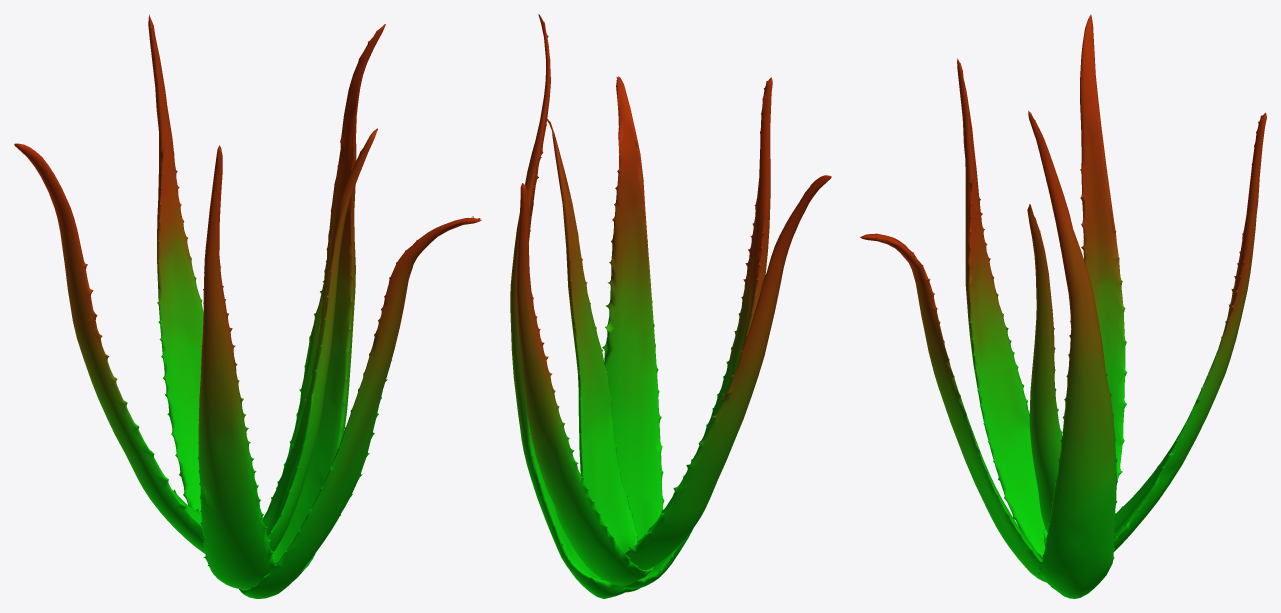
Rendered from Aloe Vera_LOD2_Var1_ve4tbbrha.fbx.
The picture shows the model from 3 angles, left to right: view 1: azimuth 30°, elevation 25°; view 2: azimuth 150°, elevation 25°; view 3: azimuth 270°, elevation 25°; orthographic projection. The views are drawn at different scales.
Parts seen in each view (by area): view 1: _2dd2_Var1_LOD2; view 2: _2dd2_Var1_LOD2; view 3: _2dd2_Var1_LOD2.
Part boxes in pixels (x1,y1,x2,y2): _2dd2_Var1_LOD2: [14, 14, 481, 598]; _2dd2_Var1_LOD2: [510, 14, 831, 598]; _2dd2_Var1_LOD2: [860, 14, 1266, 598].
Bounding box in the file's own units: 31.64 × 49.4 × 34.43.
